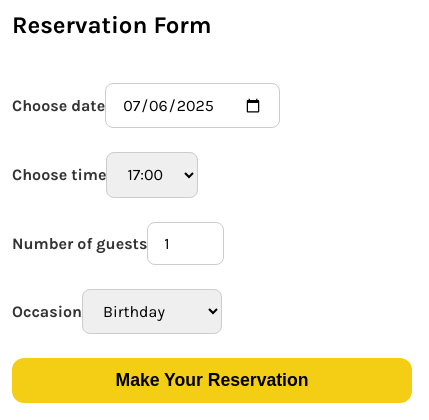
Test: BookingForm Component › React-driven validation (isFormValid) › submit button becomes disabled if date is cleared
Clear the date field labelled "Choose date" at (193, 106), box [105, 83, 280, 128]
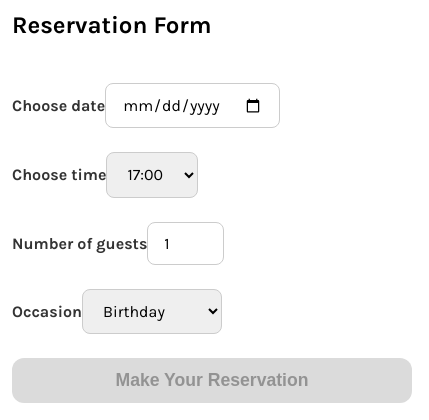
Expected: the button "Make Your Reservation" is disabled, [12, 358, 412, 403]
